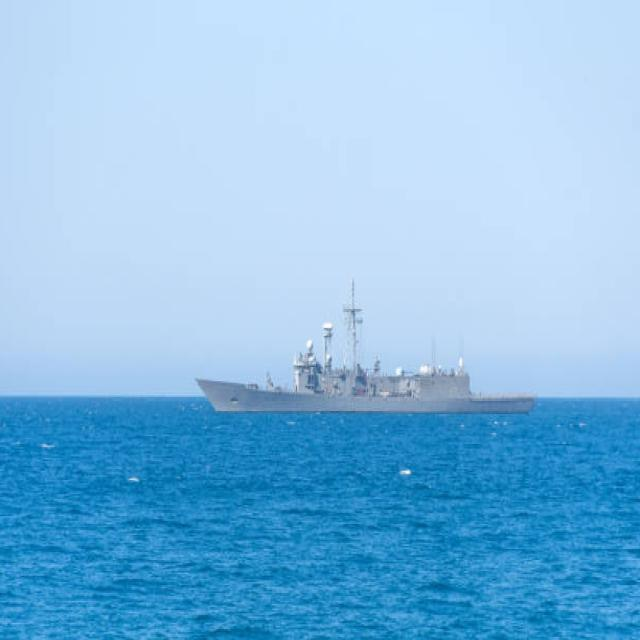Military: (196, 285, 533, 416)
